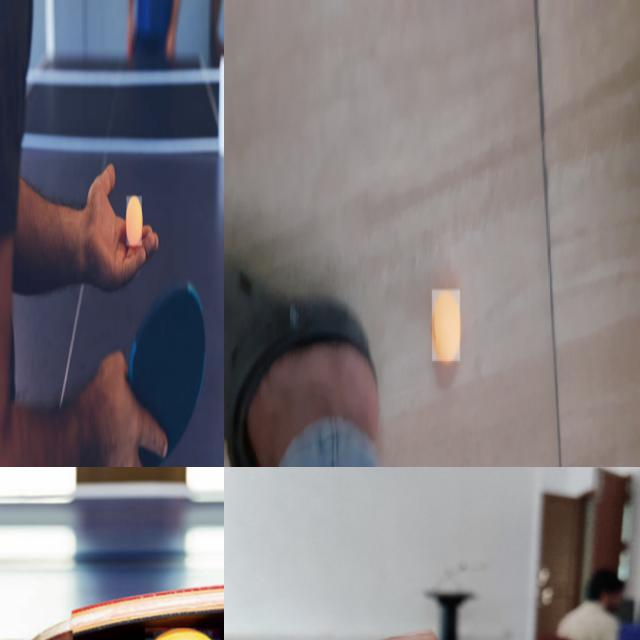ping-pong-ball: (432, 290, 460, 362), (126, 196, 142, 246)
